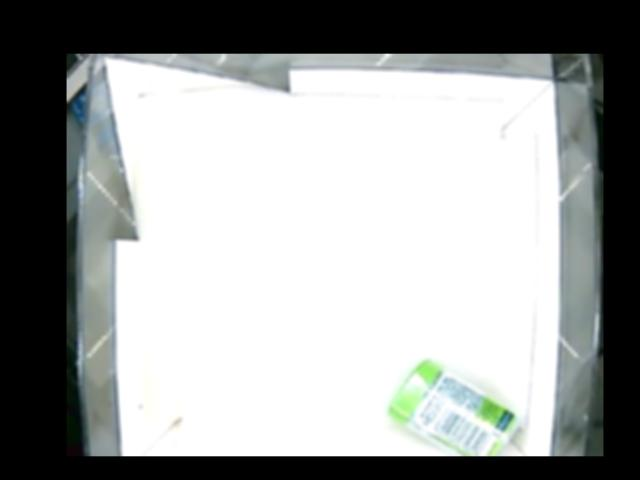Bottle: (387, 358, 519, 454)
